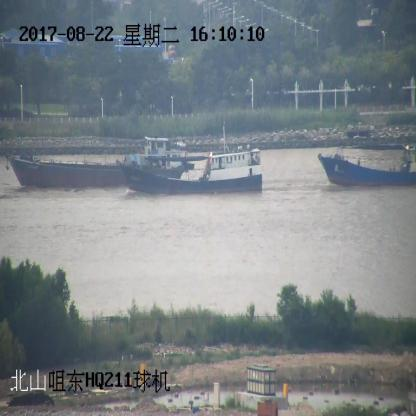Fishing Boat: (116, 127, 262, 194), (319, 141, 415, 186)
